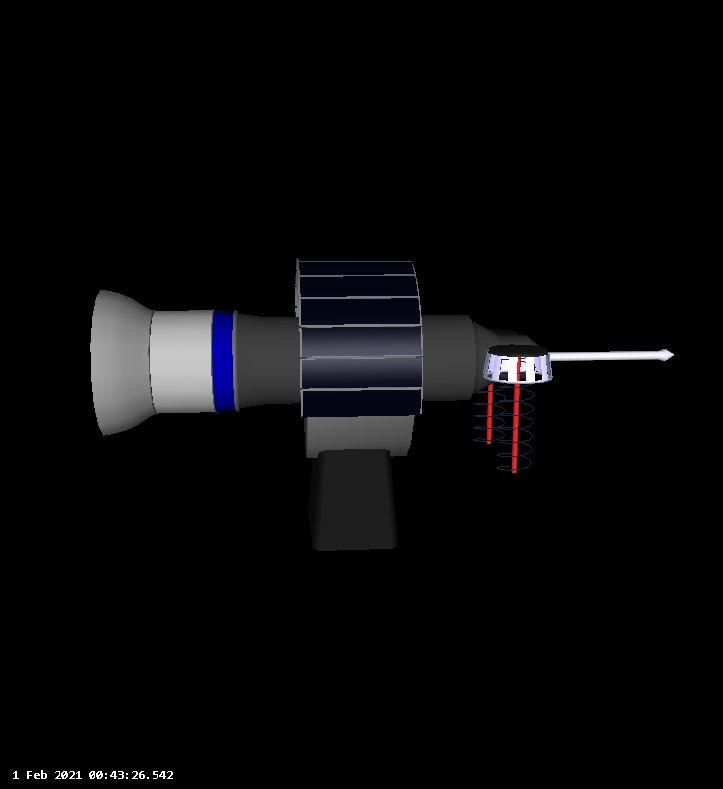antenna: (472, 340, 557, 481), (540, 337, 681, 374)
body: (197, 306, 552, 416)
solar: (290, 252, 427, 421)
thruster: (88, 288, 191, 436), (306, 441, 399, 562)
